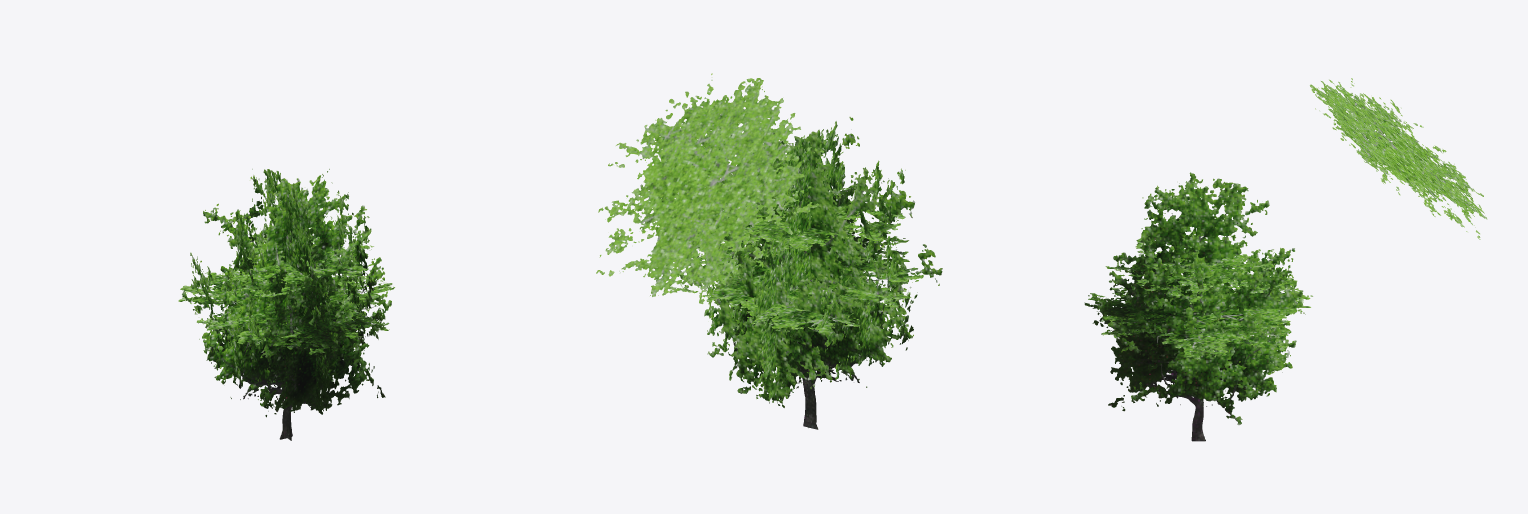
File: tree-impo5A.glb
3 renders of one model, left to right at view 1: azimuth 30°, elevation 25°; view 2: azimuth 150°, elevation 25°; view 3: azimuth 270°, elevation 25°, orthographic. The views are drawn at different scales.
Visible parts, largest first — view 1: Plane.002, Plane.008, Plane.003, Plane, Plane.012, Plane.006, Plane.011, Plane.010; view 2: shadow, Plane.001, Plane.007, Plane.003, Plane, Plane.012, Plane.006, Plane.009, Plane.011; view 3: Plane.004, Plane.013, shadow, Plane, Plane.006, Plane.014.
Part boxes in pixels (<box>): Plane.002: <box>202,175,390,439</box>; Plane.008: <box>258,209,391,414</box>; Plane.003: <box>236,169,340,440</box>; Plane: <box>178,268,394,354</box>; Plane.012: <box>190,214,275,417</box>; Plane.006: <box>229,223,373,297</box>; Plane.011: <box>312,169,385,397</box>; Plane.010: <box>182,169,304,368</box>; shadow: <box>596,73,823,303</box>; Plane.001: <box>698,128,906,429</box>; Plane.007: <box>680,196,863,407</box>; Plane.003: <box>753,121,869,427</box>; Plane: <box>668,232,923,332</box>; Plane.012: <box>820,160,917,387</box>; Plane.006: <box>718,185,905,257</box>; Plane.009: <box>780,117,942,360</box>; Plane.011: <box>704,140,787,380</box>; Plane.004: <box>1092,178,1305,441</box>; Plane.013: <box>1108,215,1291,425</box>; shadow: <box>1310,78,1487,239</box>; Plane: <box>1084,275,1312,359</box>; Plane.006: <box>1105,235,1295,303</box>; Plane.014: <box>1126,172,1295,317</box>.
Bounding box in the file's own units: 9.86 × 14.59 × 16.4.
1 material, 1 textured.
